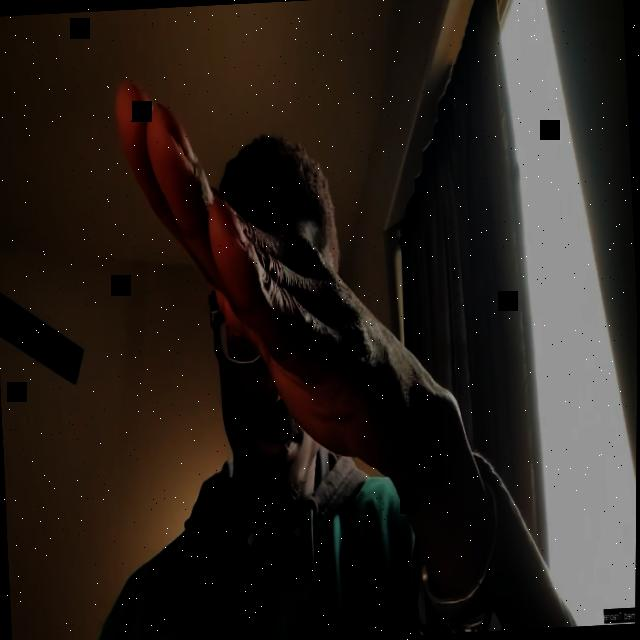Paper: (111, 64, 462, 485)
